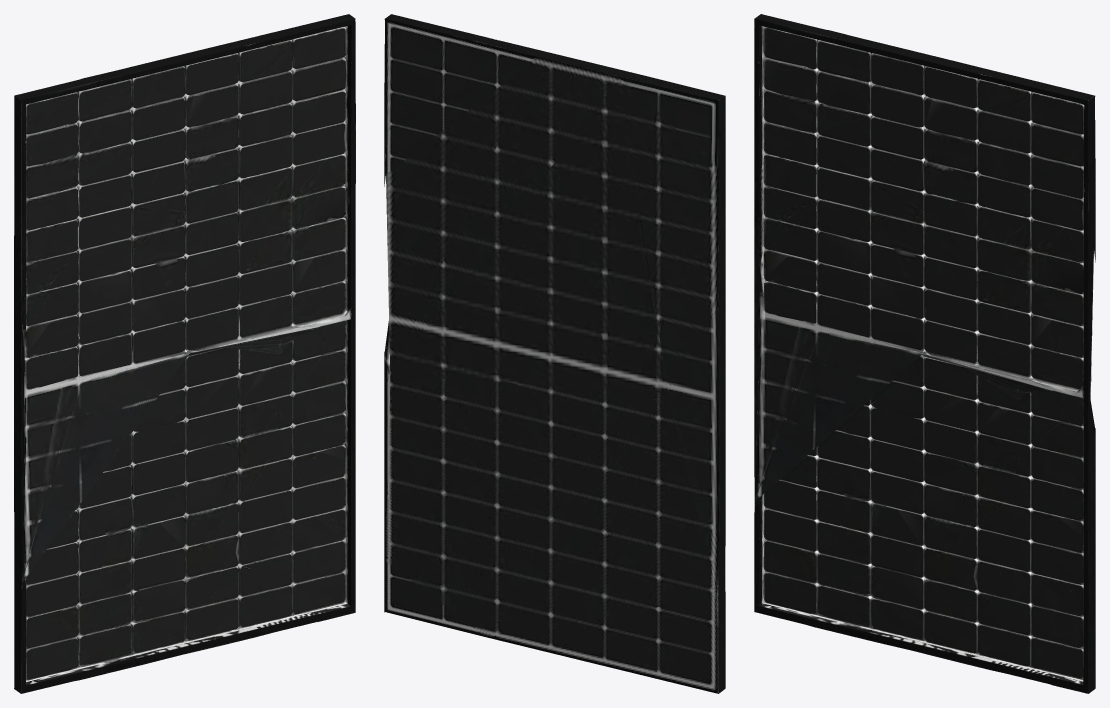
The model's file is emcar-jinko-475.glb.
3 renders of one model, left to right at view 1: azimuth 30°, elevation 25°; view 2: azimuth 150°, elevation 25°; view 3: azimuth 330°, elevation 25°, orthographic.
Visible parts, largest first — view 1: Mesh_0; view 2: Mesh_0; view 3: Mesh_0.
Part boxes in pixels (x1,y1,x2,y2): Mesh_0: (14,14,355,693); Mesh_0: (384,14,725,693); Mesh_0: (754,14,1095,693).
Bounding box in the file's own units: 1.12 × 1.9 × 0.043.
1 material, 1 textured.
